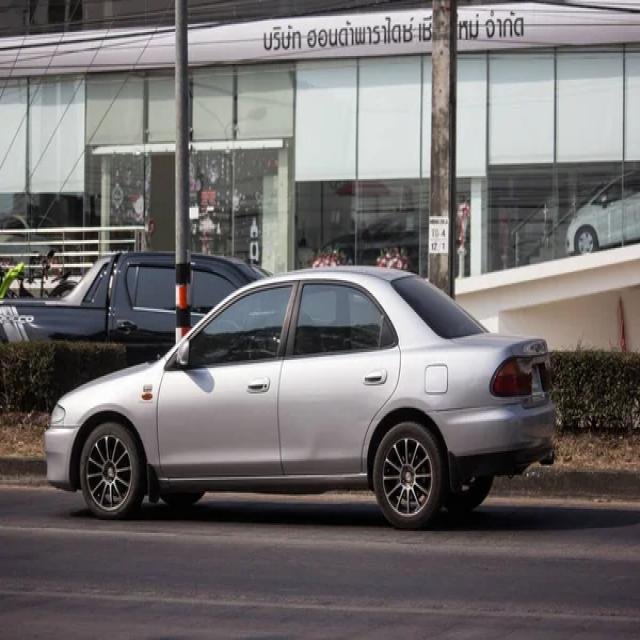car: (42, 270, 555, 512)
